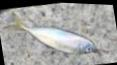fish: (3, 12, 98, 53)
